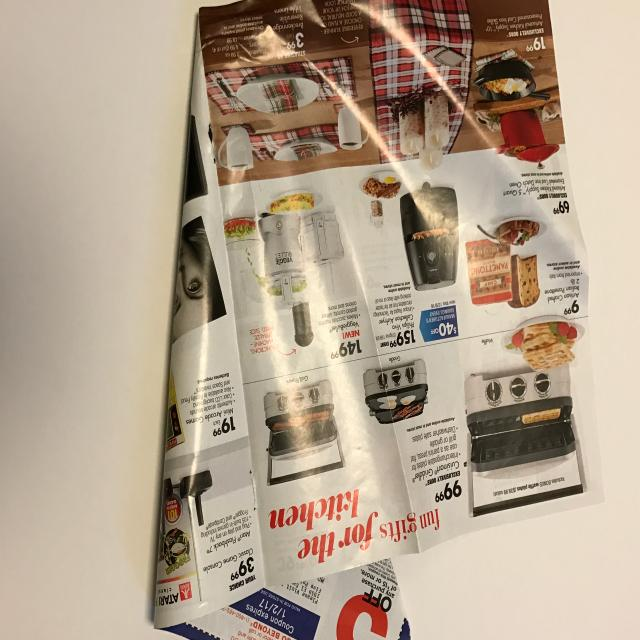paper: (151, 1, 604, 640)
